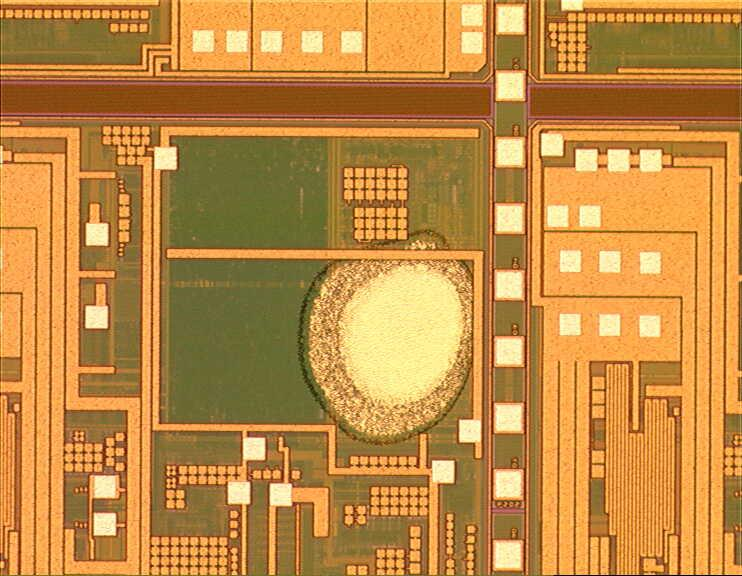BLOCK ETCH: (288, 218, 494, 447)
